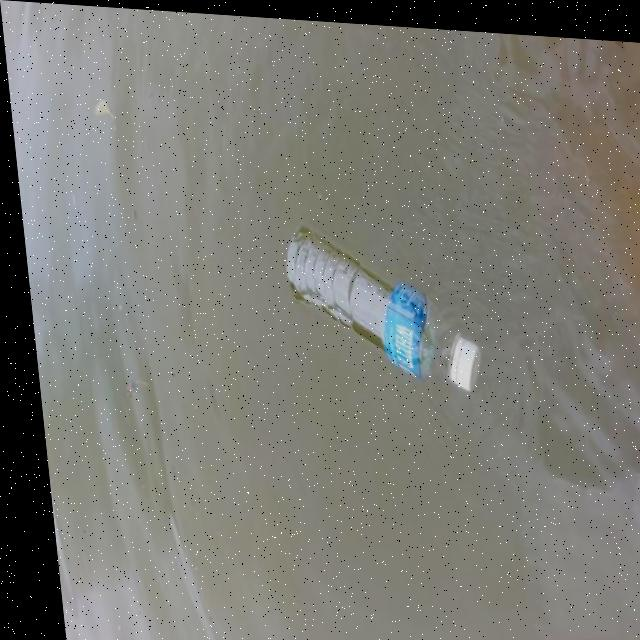waterbottle: (265, 211, 491, 422)
